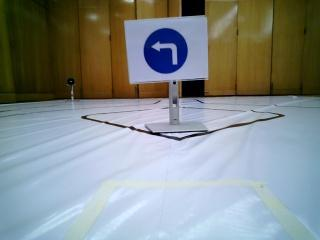left: (125, 24, 209, 77)
